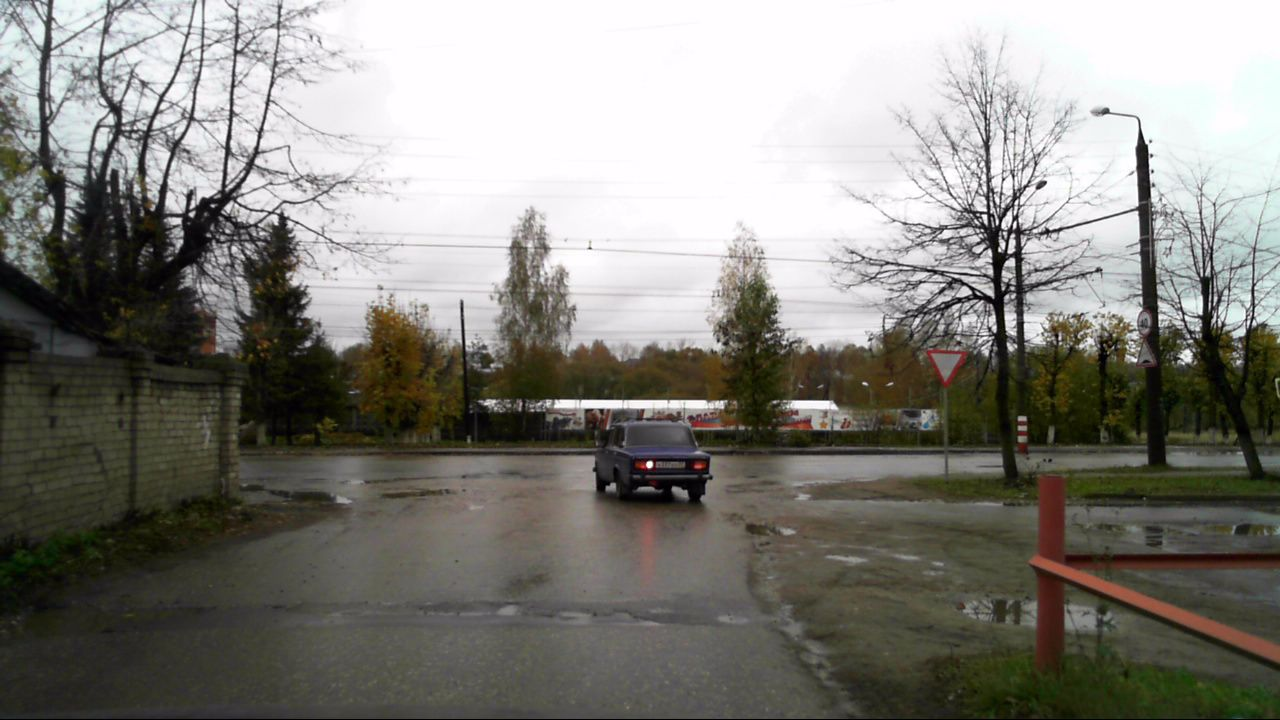speed_warning_40: (1134, 309, 1153, 337)
